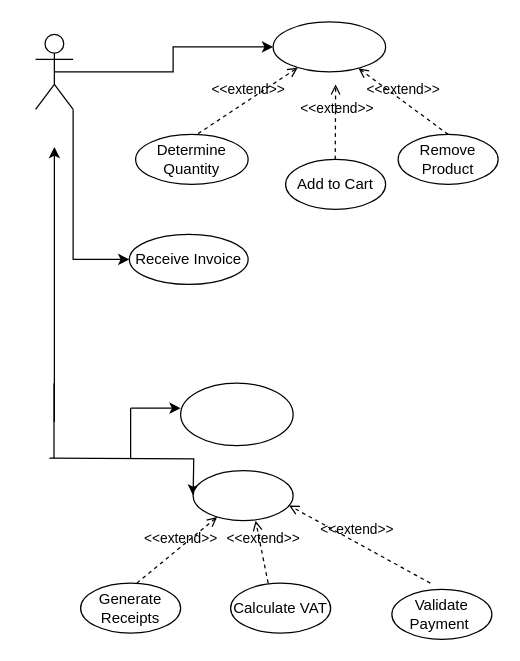
This 520x661 diagram has some shape labels left out. The box of each missing label's shape, as (x1, y1, x2, y2) in pixels:
CheckOut: (34, 33, 73, 109)
Cordinate Payment: (192, 469, 293, 521)
Generate Invoice: (179, 382, 293, 446)
Select Product: (272, 21, 386, 72)
